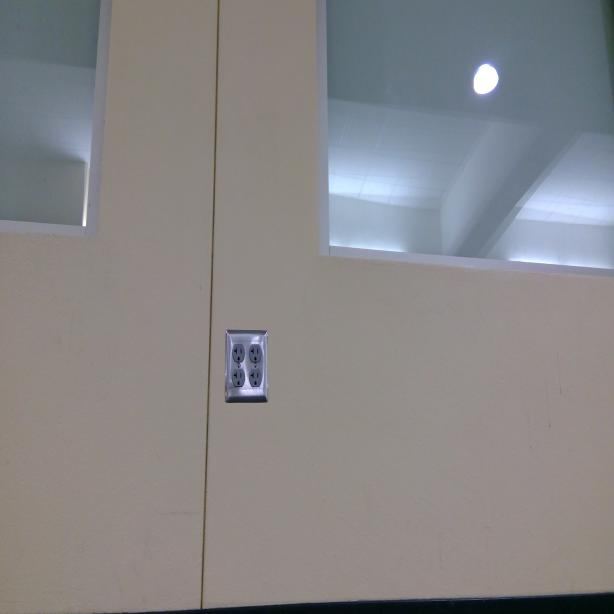typeb: (232, 341, 246, 364), (250, 344, 262, 362), (250, 369, 260, 389), (232, 370, 244, 386)
